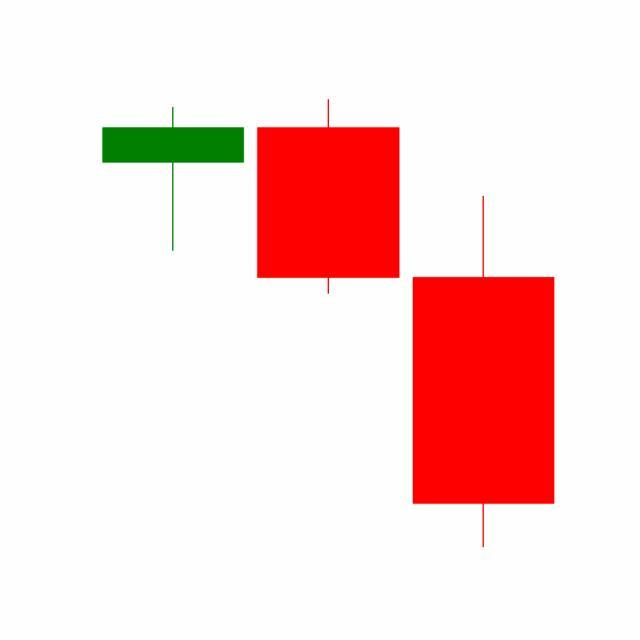Marubozu: (250, 98, 407, 297)
